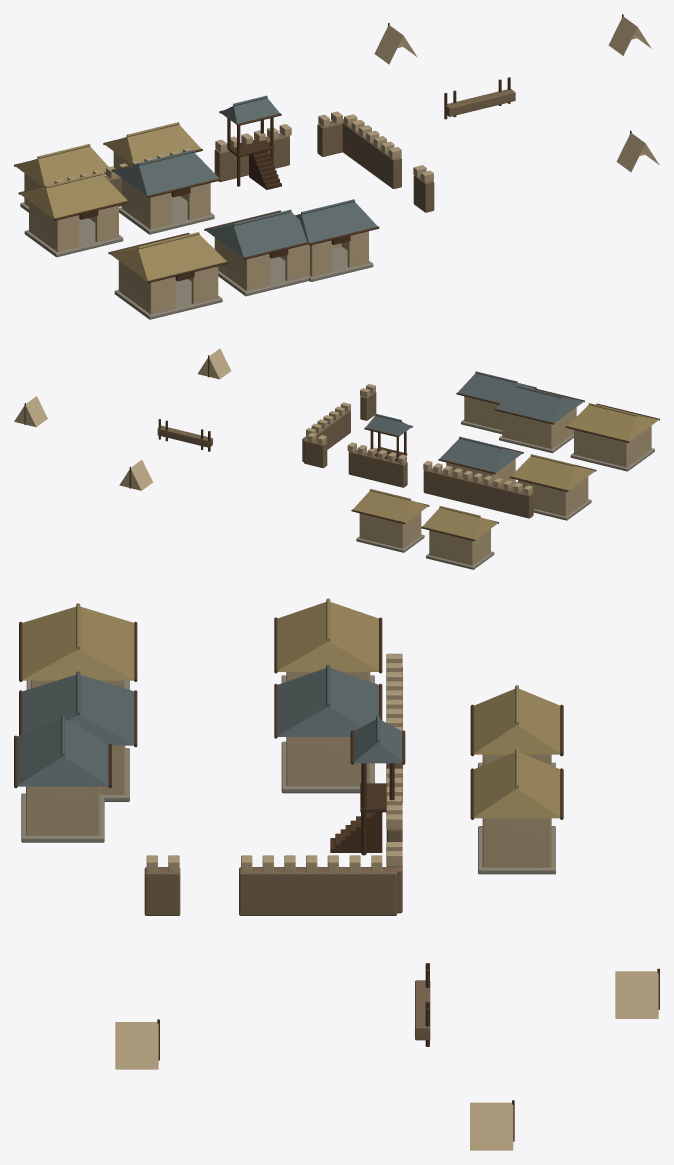
The model's file is SM_Jinyang_Architecture.fbx.
The picture shows the model from 3 angles, top to bottom: view 1: azimuth 30°, elevation 25°; view 2: azimuth 150°, elevation 25°; view 3: azimuth 270°, elevation 25°; orthographic projection. The views are drawn at different scales.
Visible parts, largest first — view 1: SM_Jinyang_Architecture; view 2: SM_Jinyang_Architecture; view 3: SM_Jinyang_Architecture.
Part boxes in pixels (left/top/right/bottom): SM_Jinyang_Architecture: left=14, top=14, right=659, bottom=319; SM_Jinyang_Architecture: left=14, top=348, right=659, bottom=569; SM_Jinyang_Architecture: left=14, top=598, right=659, bottom=1150.
Size of the model in its own units: 4390 by 697 by 2532.
